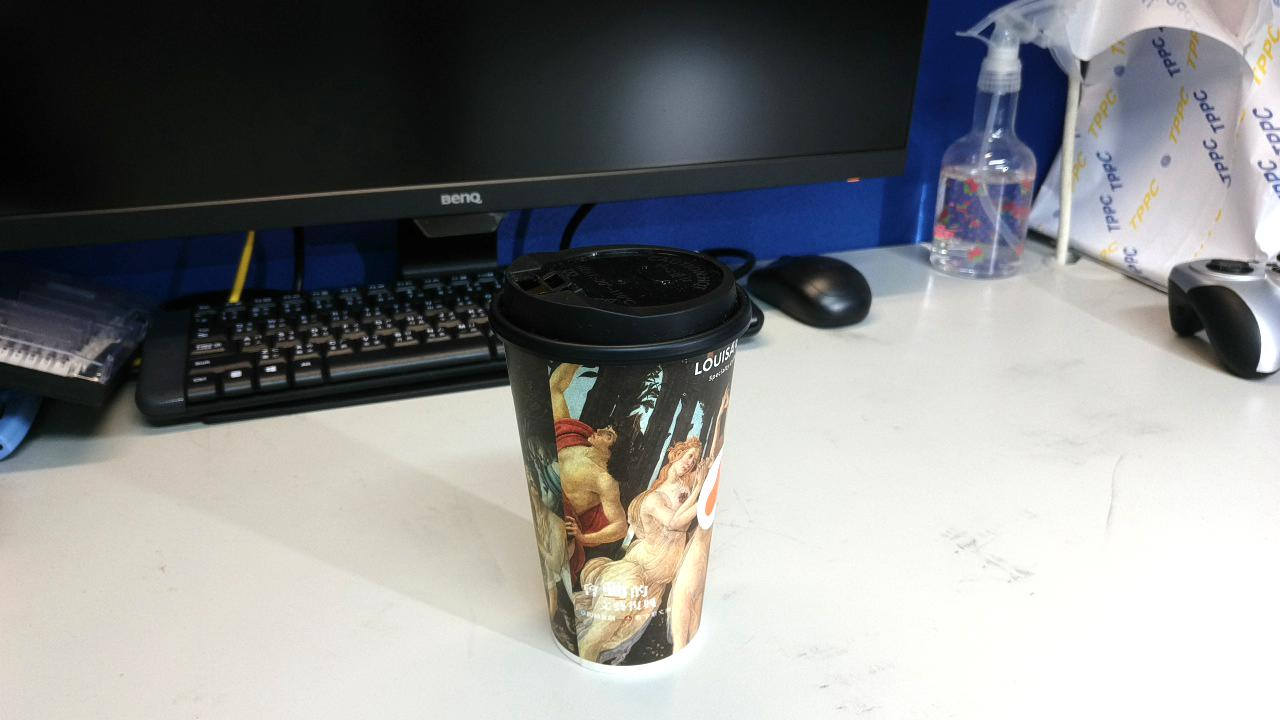long: (582, 352, 765, 522)
